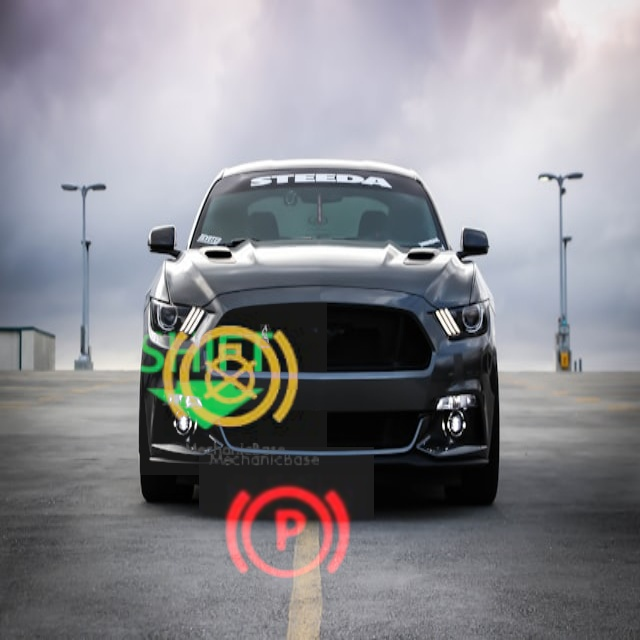symbol: (133, 281, 327, 475), (115, 287, 292, 464), (199, 447, 374, 622)
